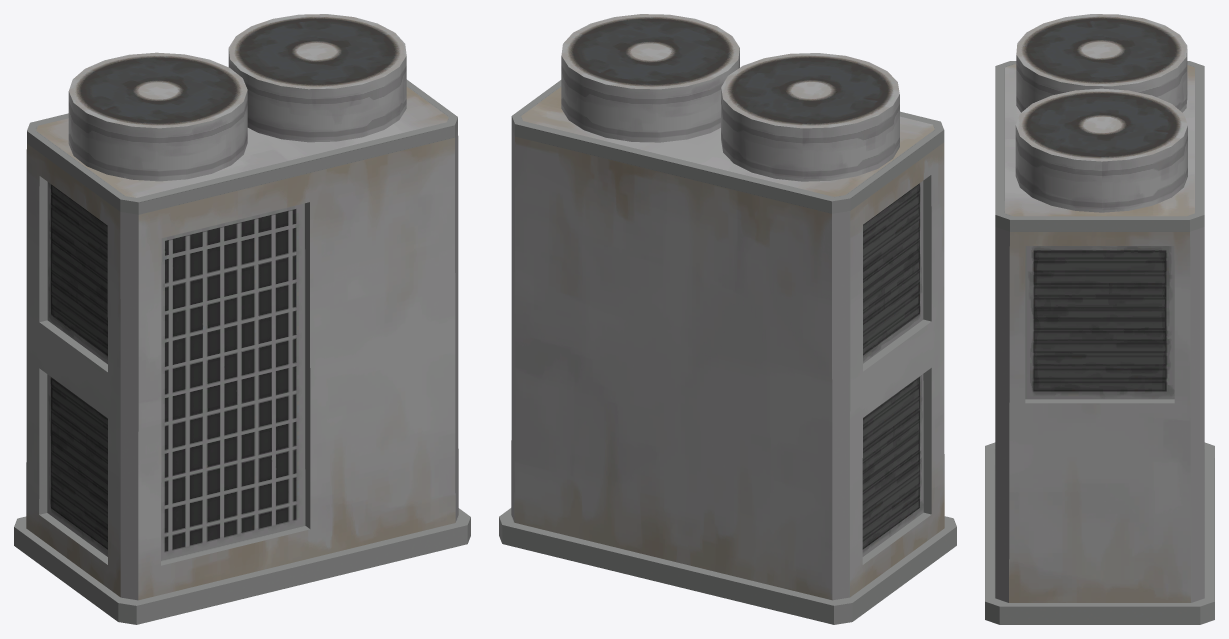
3 renders of one model, left to right at view 1: azimuth 30°, elevation 25°; view 2: azimuth 150°, elevation 25°; view 3: azimuth 270°, elevation 25°, orthographic. The views are drawn at different scales.
Parts seen in each view (by area): view 1: SM_AC02; view 2: SM_AC02; view 3: SM_AC02.
Boxes of the visible parts, x1,y1,x2,y2 form: SM_AC02: [14, 14, 470, 624]; SM_AC02: [499, 14, 956, 624]; SM_AC02: [985, 14, 1214, 624].
Size of the model in its own units: 1.92 by 2.44 by 1.12.
Materials: 1 (1 with a texture image).
